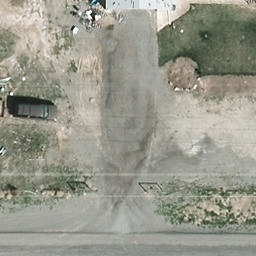car: (16, 103, 56, 120)
